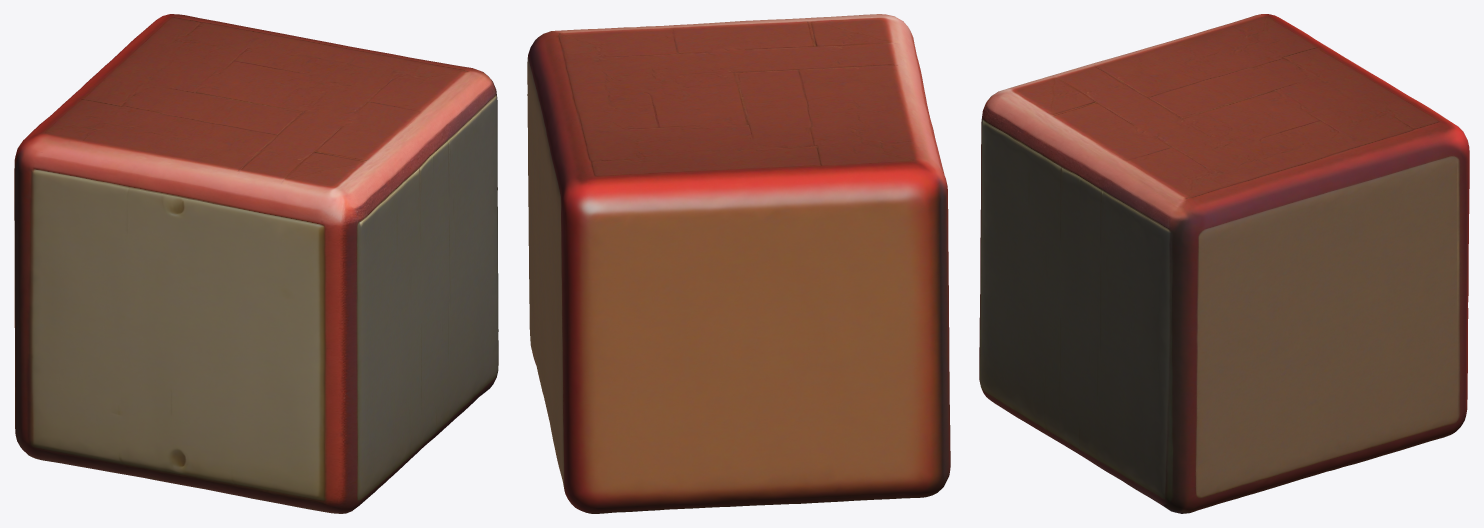
The model's file is wuerfel.glb.
The picture shows the model from 3 angles, left to right: view 1: azimuth 30°, elevation 25°; view 2: azimuth 150°, elevation 25°; view 3: azimuth 270°, elevation 25°; orthographic projection. The views are drawn at different scales.
Size of the model in its own units: 2 by 1.43 by 2.
1 material, 1 textured.
